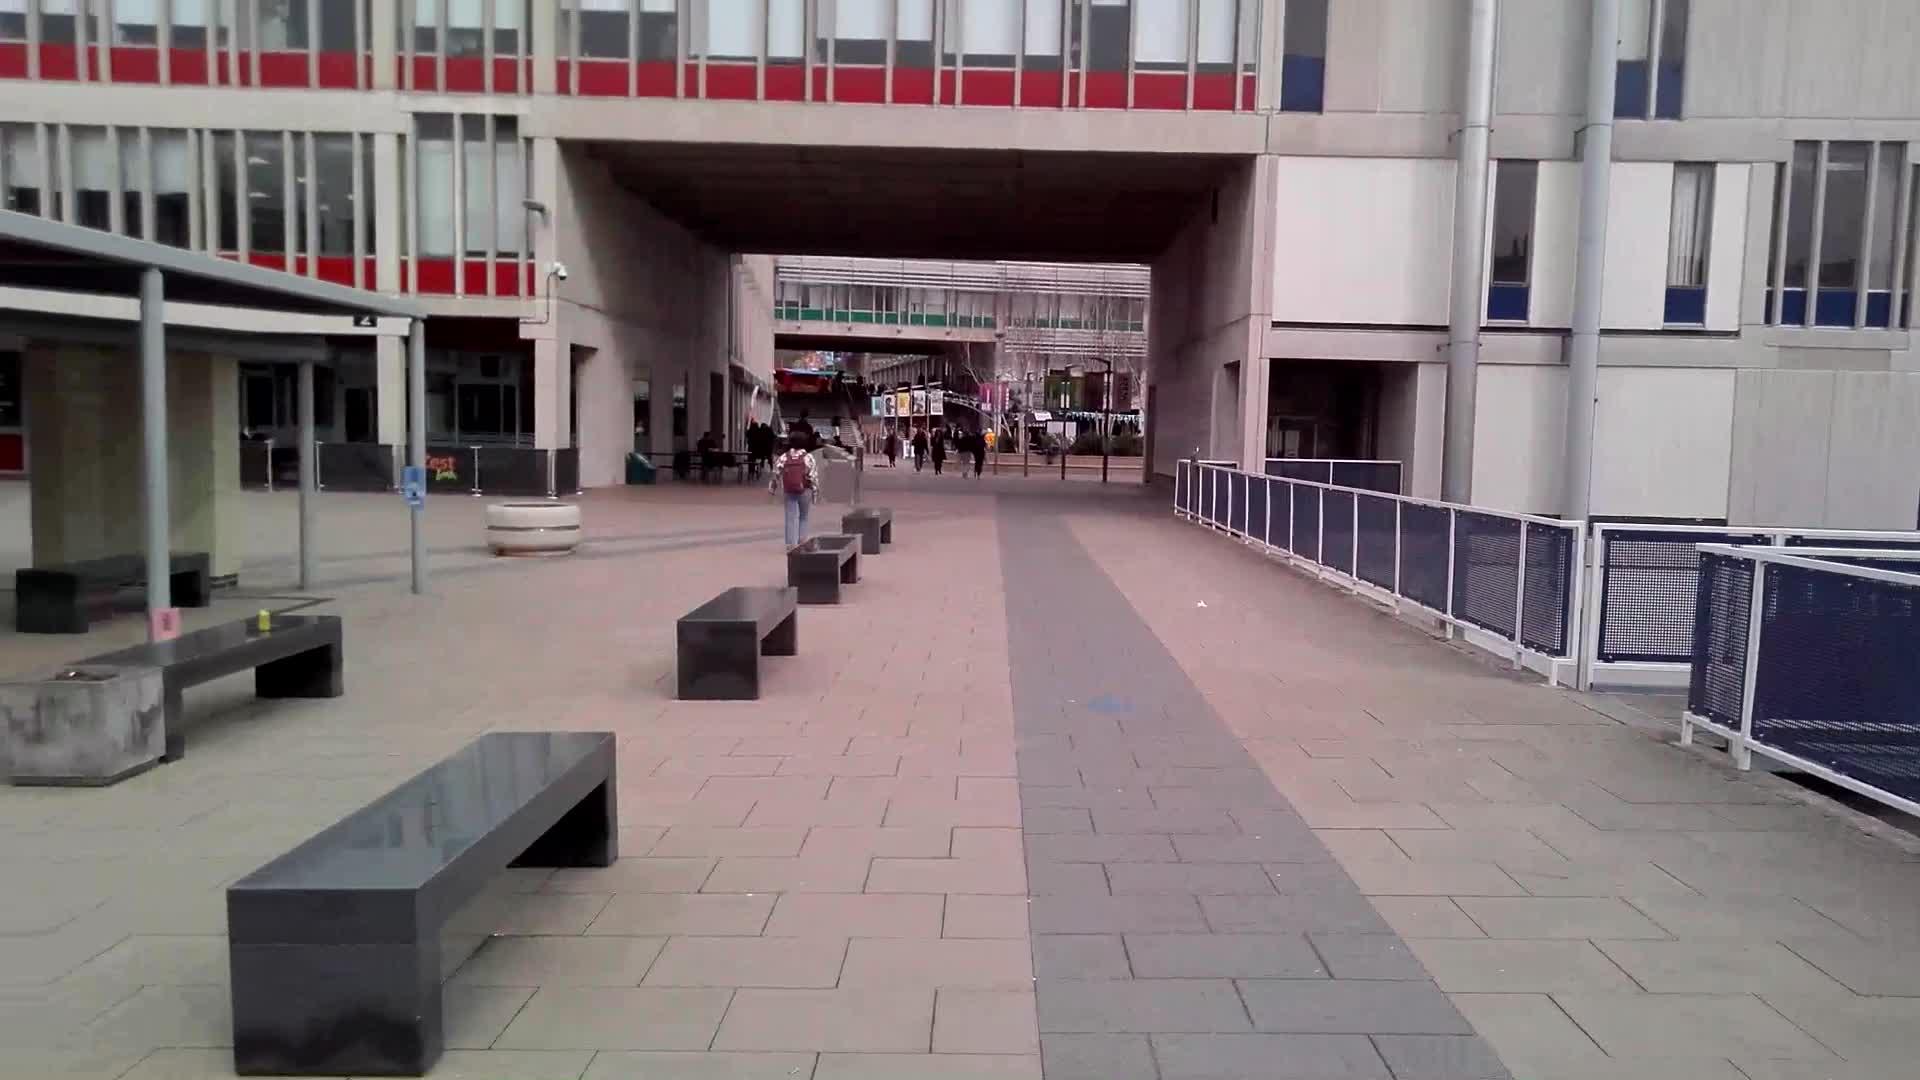Backpack: (784, 455, 812, 502)
Bench: (224, 733, 621, 1078), (1, 610, 346, 787), (680, 587, 805, 703), (788, 535, 860, 603), (842, 505, 894, 555)
Person: (778, 435, 817, 554)
